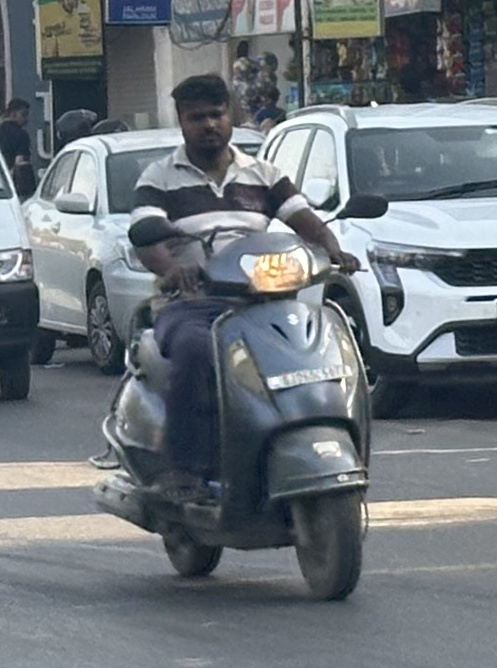BikeWithRider: (79, 67, 382, 608)
NoHelmet: (157, 66, 243, 163)
